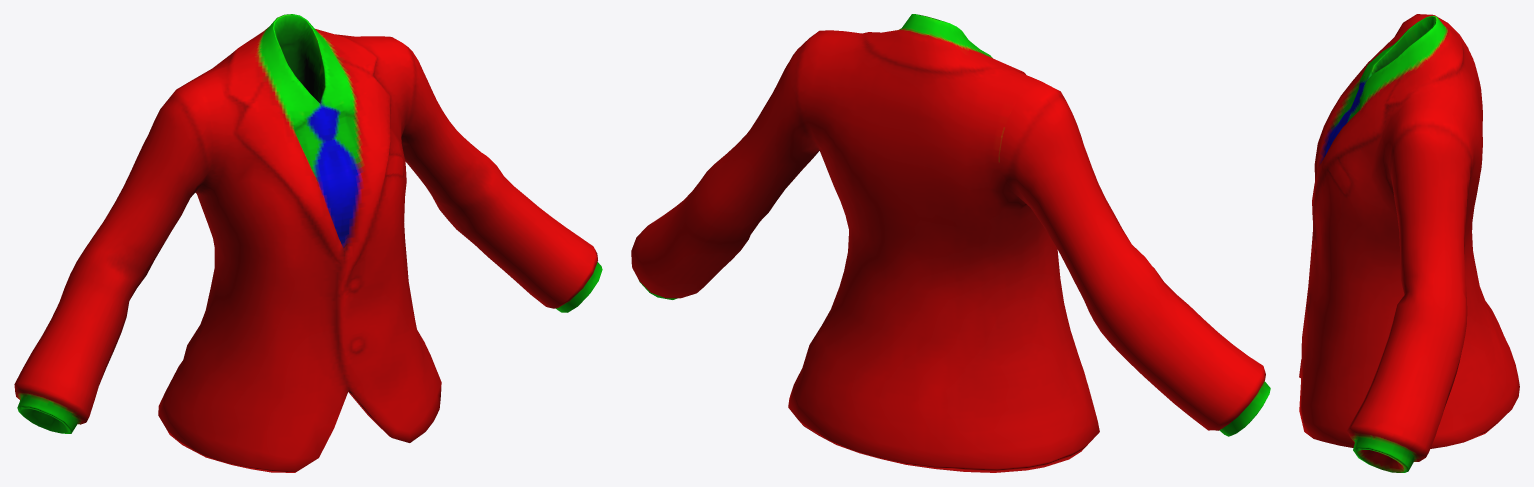
The model's file is Top_SuitJacket.obj.
3 views of the same model, side by side, from view 1: azimuth 30°, elevation 25°; view 2: azimuth 150°, elevation 25°; view 3: azimuth 270°, elevation 25° (orthographic). The views are drawn at different scales.
Parts seen in each view (by area): view 1: Top_SuitJacket_0; view 2: Top_SuitJacket_0; view 3: Top_SuitJacket_0.
Boxes of the visible parts, x1,y1,x2,y2 form: Top_SuitJacket_0: (14,14,602,472); Top_SuitJacket_0: (631,14,1270,472); Top_SuitJacket_0: (1299,14,1519,472).
Bounding box in the file's own units: 0.9082 × 0.597 × 0.3076.
1 material, 1 textured.
